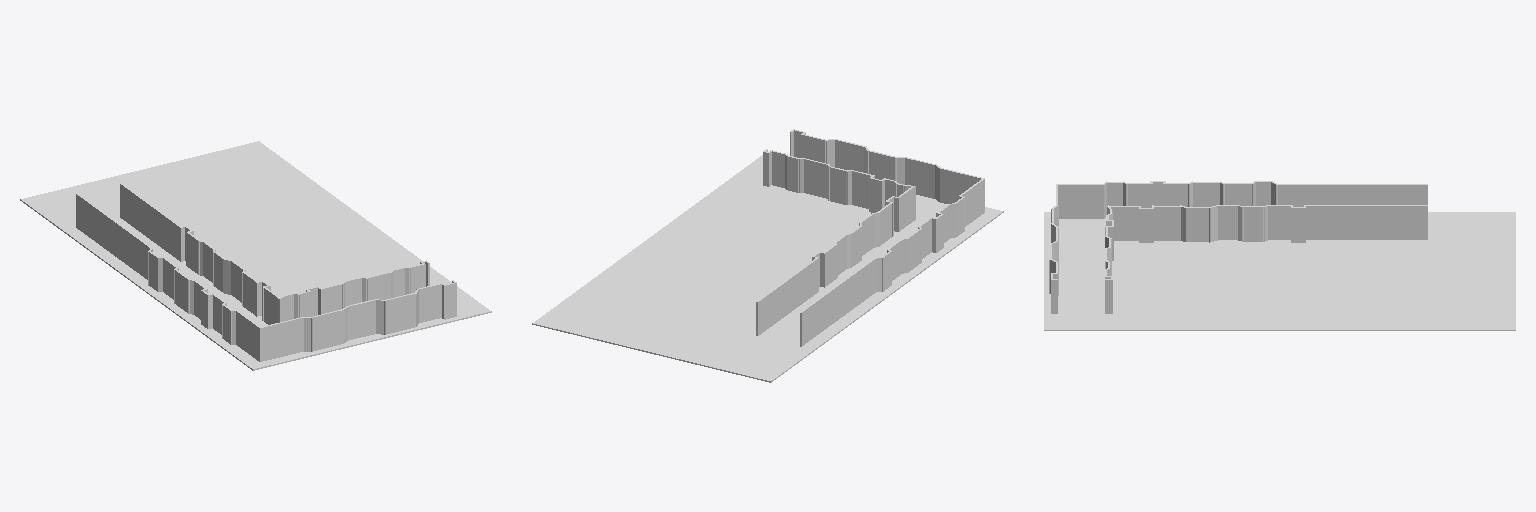
--- Facts derived from the render (not from the file) ---
Views: 3 orthographic renders of the robot side by side, from view 1: azimuth 30°, elevation 25°; view 2: azimuth 150°, elevation 25°; view 3: azimuth 270°, elevation 25°.
Model use_case1 with 68 links and 67 joints (67 fixed), rooted at use_case1__Wall_11, posed all joints at 0.
Visible links, largest first — view 1: use_case1__Floor_7, use_case1__Wall_61, use_case1__Wall_79, use_case1__Wall_43, use_case1__Wall_41, use_case1__Wall_37, use_case1__Wall_39, use_case1__Wall_44, use_case1__Wall_35, use_case1__Wall_18; view 2: use_case1__Floor_7, use_case1__Wall_61, use_case1__Wall_79, use_case1__Wall_41, use_case1__Wall_43, use_case1__Wall_18, use_case1__Wall_37, use_case1__Wall_44, use_case1__Wall_39, use_case1__Wall_20, use_case1__Wall_22, use_case1__Wall_35 (+1 smaller); view 3: use_case1__Floor_7, use_case1__Wall_79, use_case1__Wall_61, use_case1__Wall_44, use_case1__Wall_74, use_case1__Wall_78, use_case1__Wall_72, use_case1__Wall_66, use_case1__Wall_68, use_case1__Wall_70, use_case1__Wall_55, use_case1__Wall_57 (+2 smaller).
Link boxes in pixels (x1=…): use_case1__Floor_7: x1=20, y1=141, x2=491, y2=370; use_case1__Wall_61: x1=76, y1=194, x2=151, y2=279; use_case1__Wall_79: x1=120, y1=183, x2=180, y2=260; use_case1__Wall_43: x1=259, y1=317, x2=303, y2=361; use_case1__Wall_41: x1=311, y1=309, x2=343, y2=351; use_case1__Wall_37: x1=384, y1=293, x2=415, y2=334; use_case1__Wall_39: x1=348, y1=299, x2=375, y2=340; use_case1__Wall_44: x1=236, y1=310, x2=261, y2=361; use_case1__Wall_35: x1=416, y1=283, x2=441, y2=322; use_case1__Wall_18: x1=366, y1=272, x2=390, y2=300; use_case1__Floor_7: x1=532, y1=155, x2=1003, y2=382; use_case1__Wall_61: x1=800, y1=258, x2=875, y2=346; use_case1__Wall_79: x1=756, y1=258, x2=817, y2=335; use_case1__Wall_41: x1=905, y1=157, x2=936, y2=198; use_case1__Wall_43: x1=940, y1=168, x2=984, y2=212; use_case1__Wall_18: x1=804, y1=158, x2=829, y2=198; use_case1__Wall_37: x1=835, y1=139, x2=866, y2=172; use_case1__Wall_44: x1=959, y1=178, x2=984, y2=226; use_case1__Wall_39: x1=867, y1=151, x2=896, y2=180; use_case1__Wall_20: x1=828, y1=167, x2=847, y2=204; use_case1__Wall_22: x1=852, y1=171, x2=874, y2=208; use_case1__Wall_35: x1=803, y1=134, x2=826, y2=163; use_case1__Floor_7: x1=1044, y1=212, x2=1515, y2=330; use_case1__Wall_79: x1=1306, y1=205, x2=1427, y2=239; use_case1__Wall_61: x1=1276, y1=184, x2=1427, y2=206; use_case1__Wall_44: x1=1056, y1=184, x2=1104, y2=218; use_case1__Wall_74: x1=1152, y1=206, x2=1180, y2=240; use_case1__Wall_78: x1=1110, y1=206, x2=1138, y2=240; use_case1__Wall_72: x1=1185, y1=207, x2=1210, y2=241; use_case1__Wall_66: x1=1268, y1=205, x2=1290, y2=239; use_case1__Wall_68: x1=1242, y1=206, x2=1264, y2=241; use_case1__Wall_70: x1=1217, y1=205, x2=1238, y2=239; use_case1__Wall_55: x1=1191, y1=182, x2=1220, y2=206; use_case1__Wall_57: x1=1223, y1=183, x2=1252, y2=205.
Bounding box of the posed robot: 18.38 × 31.03 × 2.6 m (x, y, z).
Meshes: 1 distinct files referenced, 0 mesh visuals loaded (none loaded); not drawn: 1 (reference not matched to a file when rendering).

URDF robot description (use_case1):
<?xml version="1.0" ?>
<robot name="use_case1">
  <link name="use_case1__Wall_11">
    <inertial>
      <mass value="0"/>
      <origin rpy="0  0  0" xyz="0  0  0"/>
      <inertia ixx="0" ixy="0" ixz="0" iyy="0" iyz="0" izz="0"/>
    </inertial>
    <collision name="use_case1__Wall_11_Collision">
      <origin rpy="0      0      1.5708" xyz="7.51182 -4.42969  1.25"/>
      <geometry>
        <box size="0.5 0.15 2.5"/>
      </geometry>
    </collision>
    <visual name="use_case1__Wall_11_Visual">
      <origin rpy="0      0      1.5708" xyz="7.51182 -4.42969  1.25"/>
      <geometry>
        <box size="0.5 0.15 2.5"/>
      </geometry>
      <material
        name="">
        <color
          rgba="0.92 0.92 0.92 1" />
      </material>
    </visual>
  </link>
  <link name="use_case1__Wall_12">
    <inertial>
      <mass value="0"/>
      <origin rpy="0  0  0" xyz="0  0  0"/>
      <inertia ixx="0" ixy="0" ixz="0" iyy="0" iyz="0" izz="0"/>
    </inertial>
    <collision name="use_case1__Wall_12_Collision">
      <origin rpy="0       0       3.14159" xyz="7.33682 -4.25469  1.25"/>
      <geometry>
        <box size="0.5 0.15 2.5"/>
      </geometry>
    </collision>
    <visual name="use_case1__Wall_12_Visual">
      <origin rpy="0       0       3.14159" xyz="7.33682 -4.25469  1.25"/>
      <geometry>
        <box size="0.5 0.15 2.5"/>
      </geometry>
      <material
        name="">
        <color
          rgba="0.92 0.92 0.92 1" />
      </material>
    </visual>
  </link>
  <link name="use_case1__Wall_13">
    <inertial>
      <mass value="0"/>
      <origin rpy="0  0  0" xyz="0  0  0"/>
      <inertia ixx="0" ixy="0" ixz="0" iyy="0" iyz="0" izz="0"/>
    </inertial>
    <collision name="use_case1__Wall_13_Collision">
      <origin rpy="0      0     -1.5708" xyz="7.16182 -4.42969  1.25"/>
      <geometry>
        <box size="0.5 0.15 2.5"/>
      </geometry>
    </collision>
    <visual name="use_case1__Wall_13_Visual">
      <origin rpy="0      0     -1.5708" xyz="7.16182 -4.42969  1.25"/>
      <geometry>
        <box size="0.5 0.15 2.5"/>
      </geometry>
      <material
        name="">
        <color
          rgba="0.92 0.92 0.92 1" />
      </material>
    </visual>
  </link>
  <link name="use_case1__Wall_14">
    <inertial>
      <mass value="0"/>
      <origin rpy="0  0  0" xyz="0  0  0"/>
      <inertia ixx="0" ixy="0" ixz="0" iyy="0" iyz="0" izz="0"/>
    </inertial>
    <collision name="use_case1__Wall_14_Collision">
      <origin rpy="0       0       3.14159" xyz="6.61182 -4.60469  1.25"/>
      <geometry>
        <box size="1.25 0.15 2.5"/>
      </geometry>
    </collision>
    <visual name="use_case1__Wall_14_Visual">
      <origin rpy="0       0       3.14159" xyz="6.61182 -4.60469  1.25"/>
      <geometry>
        <box size="1.25 0.15 2.5"/>
      </geometry>
      <material
        name="">
        <color
          rgba="0.92 0.92 0.92 1" />
      </material>
    </visual>
  </link>
  <link name="use_case1__Wall_15">
    <inertial>
      <mass value="0"/>
      <origin rpy="0  0  0" xyz="0  0  0"/>
      <inertia ixx="0" ixy="0" ixz="0" iyy="0" iyz="0" izz="0"/>
    </inertial>
    <collision name="use_case1__Wall_15_Collision">
      <origin rpy="0       0       2.61798" xyz="5.91026 -4.51719  1.25"/>
      <geometry>
        <box size="0.5 0.15 2.5"/>
      </geometry>
    </collision>
    <visual name="use_case1__Wall_15_Visual">
      <origin rpy="0       0       2.61798" xyz="5.91026 -4.51719  1.25"/>
      <geometry>
        <box size="0.5 0.15 2.5"/>
      </geometry>
      <material
        name="">
        <color
          rgba="0.92 0.92 0.92 1" />
      </material>
    </visual>
  </link>
  <link name="use_case1__Wall_16">
    <inertial>
      <mass value="0"/>
      <origin rpy="0  0  0" xyz="0  0  0"/>
      <inertia ixx="0" ixy="0" ixz="0" iyy="0" iyz="0" izz="0"/>
    </inertial>
    <collision name="use_case1__Wall_16_Collision">
      <origin rpy="0       0       3.14159" xyz="5.33371 -4.42969  1.25"/>
      <geometry>
        <box size="1 0.15 2.5"/>
      </geometry>
    </collision>
    <visual name="use_case1__Wall_16_Visual">
      <origin rpy="0       0       3.14159" xyz="5.33371 -4.42969  1.25"/>
      <geometry>
        <box size="1 0.15 2.5"/>
      </geometry>
      <material
        name="">
        <color
          rgba="0.92 0.92 0.92 1" />
      </material>
    </visual>
  </link>
  <link name="use_case1__Wall_17">
    <inertial>
      <mass value="0"/>
      <origin rpy="0  0  0" xyz="0  0  0"/>
      <inertia ixx="0" ixy="0" ixz="0" iyy="0" iyz="0" izz="0"/>
    </inertial>
    <collision name="use_case1__Wall_17_Collision">
      <origin rpy="0       0      -2.61798" xyz="4.75715 -4.51719  1.25"/>
      <geometry>
        <box size="0.5 0.15 2.5"/>
      </geometry>
    </collision>
    <visual name="use_case1__Wall_17_Visual">
      <origin rpy="0       0      -2.61798" xyz="4.75715 -4.51719  1.25"/>
      <geometry>
        <box size="0.5 0.15 2.5"/>
      </geometry>
      <material
        name="">
        <color
          rgba="0.92 0.92 0.92 1" />
      </material>
    </visual>
  </link>
  <link name="use_case1__Wall_18">
    <inertial>
      <mass value="0"/>
      <origin rpy="0  0  0" xyz="0  0  0"/>
      <inertia ixx="0" ixy="0" ixz="0" iyy="0" iyz="0" izz="0"/>
    </inertial>
    <collision name="use_case1__Wall_18_Collision">
      <origin rpy="0       0       3.14159" xyz="3.6806  -4.60469  1.25"/>
      <geometry>
        <box size="2 0.15 2.5"/>
      </geometry>
    </collision>
    <visual name="use_case1__Wall_18_Visual">
      <origin rpy="0       0       3.14159" xyz="3.6806  -4.60469  1.25"/>
      <geometry>
        <box size="2 0.15 2.5"/>
      </geometry>
      <material
        name="">
        <color
          rgba="0.92 0.92 0.92 1" />
      </material>
    </visual>
  </link>
  <link name="use_case1__Wall_19">
    <inertial>
      <mass value="0"/>
      <origin rpy="0  0  0" xyz="0  0  0"/>
      <inertia ixx="0" ixy="0" ixz="0" iyy="0" iyz="0" izz="0"/>
    </inertial>
    <collision name="use_case1__Wall_19_Collision">
      <origin rpy="0       0       2.35618" xyz="2.63185 -4.48095  1.25"/>
      <geometry>
        <box size="0.5 0.15 2.5"/>
      </geometry>
    </collision>
    <visual name="use_case1__Wall_19_Visual">
      <origin rpy="0       0       2.35618" xyz="2.63185 -4.48095  1.25"/>
      <geometry>
        <box size="0.5 0.15 2.5"/>
      </geometry>
      <material
        name="">
        <color
          rgba="0.92 0.92 0.92 1" />
      </material>
    </visual>
  </link>
  <link name="use_case1__Wall_20">
    <inertial>
      <mass value="0"/>
      <origin rpy="0  0  0" xyz="0  0  0"/>
      <inertia ixx="0" ixy="0" ixz="0" iyy="0" iyz="0" izz="0"/>
    </inertial>
    <collision name="use_case1__Wall_20_Collision">
      <origin rpy="0       0       3.14159" xyz="1.83311 -4.3572   1.25"/>
      <geometry>
        <box size="1.5 0.15 2.5"/>
      </geometry>
    </collision>
    <visual name="use_case1__Wall_20_Visual">
      <origin rpy="0       0       3.14159" xyz="1.83311 -4.3572   1.25"/>
      <geometry>
        <box size="1.5 0.15 2.5"/>
      </geometry>
      <material
        name="">
        <color
          rgba="0.92 0.92 0.92 1" />
      </material>
    </visual>
  </link>
  <link name="use_case1__Wall_21">
    <inertial>
      <mass value="0"/>
      <origin rpy="0  0  0" xyz="0  0  0"/>
      <inertia ixx="0" ixy="0" ixz="0" iyy="0" iyz="0" izz="0"/>
    </inertial>
    <collision name="use_case1__Wall_21_Collision">
      <origin rpy="0       0      -2.45528" xyz="1.01416 -4.47512  1.25"/>
      <geometry>
        <box size="0.522162 0.15 2.5"/>
      </geometry>
    </collision>
    <visual name="use_case1__Wall_21_Visual">
      <origin rpy="0       0      -2.45528" xyz="1.01416 -4.47512  1.25"/>
      <geometry>
        <box size="0.522162 0.15 2.5"/>
      </geometry>
      <material
        name="">
        <color
          rgba="0.92 0.92 0.92 1" />
      </material>
    </visual>
  </link>
  <link name="use_case1__Wall_22">
    <inertial>
      <mass value="0"/>
      <origin rpy="0  0  0" xyz="0  0  0"/>
      <inertia ixx="0" ixy="0" ixz="0" iyy="0" iyz="0" izz="0"/>
    </inertial>
    <collision name="use_case1__Wall_22_Collision">
      <origin rpy="0       0       3.14159" xyz="0.07021 -4.57783  1.25"/>
      <geometry>
        <box size="1.75 0.15 2.5"/>
      </geometry>
    </collision>
    <visual name="use_case1__Wall_22_Visual">
      <origin rpy="0       0       3.14159" xyz="0.07021 -4.57783  1.25"/>
      <geometry>
        <box size="1.75 0.15 2.5"/>
      </geometry>
      <material
        name="">
        <color
          rgba="0.92 0.92 0.92 1" />
      </material>
    </visual>
  </link>
  <link name="use_case1__Wall_23">
    <inertial>
      <mass value="0"/>
      <origin rpy="0  0  0" xyz="0  0  0"/>
      <inertia ixx="0" ixy="0" ixz="0" iyy="0" iyz="0" izz="0"/>
    </inertial>
    <collision name="use_case1__Wall_23_Collision">
      <origin rpy="0      0      1.6078" xyz="-0.73738 -4.38762  1.25"/>
      <geometry>
        <box size="0.561116 0.15 2.5"/>
      </geometry>
    </collision>
    <visual name="use_case1__Wall_23_Visual">
      <origin rpy="0      0      1.6078" xyz="-0.73738 -4.38762  1.25"/>
      <geometry>
        <box size="0.561116 0.15 2.5"/>
      </geometry>
      <material
        name="">
        <color
          rgba="0.92 0.92 0.92 1" />
      </material>
    </visual>
  </link>
  <link name="use_case1__Wall_24">
    <inertial>
      <mass value="0"/>
      <origin rpy="0  0  0" xyz="0  0  0"/>
      <inertia ixx="0" ixy="0" ixz="0" iyy="0" iyz="0" izz="0"/>
    </inertial>
    <collision name="use_case1__Wall_24_Collision">
      <origin rpy="0       0       3.14159" xyz="-1.16999 -4.1822   1.25"/>
      <geometry>
        <box size="1 0.15 2.5"/>
      </geometry>
    </collision>
    <visual name="use_case1__Wall_24_Visual">
      <origin rpy="0       0       3.14159" xyz="-1.16999 -4.1822   1.25"/>
      <geometry>
        <box size="1 0.15 2.5"/>
      </geometry>
      <material
        name="">
        <color
          rgba="0.92 0.92 0.92 1" />
      </material>
    </visual>
  </link>
  <link name="use_case1__Wall_25">
    <inertial>
      <mass value="0"/>
      <origin rpy="0  0  0" xyz="0  0  0"/>
      <inertia ixx="0" ixy="0" ixz="0" iyy="0" iyz="0" izz="0"/>
    </inertial>
    <collision name="use_case1__Wall_25_Collision">
      <origin rpy="0      0     -1.5708" xyz="-1.59499 -4.3572   1.25"/>
      <geometry>
        <box size="0.5 0.15 2.5"/>
      </geometry>
    </collision>
    <visual name="use_case1__Wall_25_Visual">
      <origin rpy="0      0     -1.5708" xyz="-1.59499 -4.3572   1.25"/>
      <geometry>
        <box size="0.5 0.15 2.5"/>
      </geometry>
      <material
        name="">
        <color
          rgba="0.92 0.92 0.92 1" />
      </material>
    </visual>
  </link>
  <link name="use_case1__Wall_26">
    <inertial>
      <mass value="0"/>
      <origin rpy="0  0  0" xyz="0  0  0"/>
      <inertia ixx="0" ixy="0" ixz="0" iyy="0" iyz="0" izz="0"/>
    </inertial>
    <collision name="use_case1__Wall_26_Collision">
      <origin rpy="0       0       3.14159" xyz="-2.01999 -4.5322   1.25"/>
      <geometry>
        <box size="1 0.15 2.5"/>
      </geometry>
    </collision>
    <visual name="use_case1__Wall_26_Visual">
      <origin rpy="0       0       3.14159" xyz="-2.01999 -4.5322   1.25"/>
      <geometry>
        <box size="1 0.15 2.5"/>
      </geometry>
      <material
        name="">
        <color
          rgba="0.92 0.92 0.92 1" />
      </material>
    </visual>
  </link>
  <link name="use_case1__Wall_27">
    <inertial>
      <mass value="0"/>
      <origin rpy="0  0  0" xyz="0  0  0"/>
      <inertia ixx="0" ixy="0" ixz="0" iyy="0" iyz="0" izz="0"/>
    </inertial>
    <collision name="use_case1__Wall_27_Collision">
      <origin rpy="0       0       2.35618" xyz="-2.56873 -4.40846  1.25"/>
      <geometry>
        <box size="0.5 0.15 2.5"/>
      </geometry>
    </collision>
    <visual name="use_case1__Wall_27_Visual">
      <origin rpy="0       0       2.35618" xyz="-2.56873 -4.40846  1.25"/>
      <geometry>
        <box size="0.5 0.15 2.5"/>
      </geometry>
      <material
        name="">
        <color
          rgba="0.92 0.92 0.92 1" />
      </material>
    </visual>
  </link>
  <link name="use_case1__Wall_28">
    <inertial>
      <mass value="0"/>
      <origin rpy="0  0  0" xyz="0  0  0"/>
      <inertia ixx="0" ixy="0" ixz="0" iyy="0" iyz="0" izz="0"/>
    </inertial>
    <collision name="use_case1__Wall_28_Collision">
      <origin rpy="0       0       3.14159" xyz="-2.99248 -4.28472  1.25"/>
      <geometry>
        <box size="0.75 0.15 2.5"/>
      </geometry>
    </collision>
    <visual name="use_case1__Wall_28_Visual">
      <origin rpy="0       0       3.14159" xyz="-2.99248 -4.28472  1.25"/>
      <geometry>
        <box size="0.75 0.15 2.5"/>
      </geometry>
      <material
        name="">
        <color
          rgba="0.92 0.92 0.92 1" />
      </material>
    </visual>
  </link>
  <link name="use_case1__Wall_29">
    <inertial>
      <mass value="0"/>
      <origin rpy="0  0  0" xyz="0  0  0"/>
      <inertia ixx="0" ixy="0" ixz="0" iyy="0" iyz="0" izz="0"/>
    </inertial>
    <collision name="use_case1__Wall_29_Collision">
      <origin rpy="0       0      -2.82132" xyz="-3.59318 -4.38446  1.25"/>
      <geometry>
        <box size="0.783629 0.15 2.5"/>
      </geometry>
    </collision>
    <visual name="use_case1__Wall_29_Visual">
      <origin rpy="0       0      -2.82132" xyz="-3.59318 -4.38446  1.25"/>
      <geometry>
        <box size="0.783629 0.15 2.5"/>
      </geometry>
      <material
        name="">
        <color
          rgba="0.92 0.92 0.92 1" />
      </material>
    </visual>
  </link>
  <link name="use_case1__Wall_30">
    <inertial>
      <mass value="0"/>
      <origin rpy="0  0  0" xyz="0  0  0"/>
      <inertia ixx="0" ixy="0" ixz="0" iyy="0" iyz="0" izz="0"/>
    </inertial>
    <collision name="use_case1__Wall_30_Collision">
      <origin rpy="0  0  0" xyz="-3.89389 -4.4842   1.25"/>
      <geometry>
        <box size="0.15 0.15 2.5"/>
      </geometry>
    </collision>
    <visual name="use_case1__Wall_30_Visual">
      <origin rpy="0  0  0" xyz="-3.89389 -4.4842   1.25"/>
      <geometry>
        <box size="0.15 0.15 2.5"/>
      </geometry>
      <material
        name="">
        <color
          rgba="0.92 0.92 0.92 1" />
      </material>
    </visual>
  </link>
  <link name="use_case1__Wall_32">
    <inertial>
      <mass value="0"/>
      <origin rpy="0  0  0" xyz="0  0  0"/>
      <inertia ixx="0" ixy="0" ixz="0" iyy="0" iyz="0" izz="0"/>
    </inertial>
    <collision name="use_case1__Wall_32_Collision">
      <origin rpy="0      0     -1.5708" xyz="7.52673 -8.03025  1.25"/>
      <geometry>
        <box size="0.5 0.15 2.5"/>
      </geometry>
    </collision>
    <visual name="use_case1__Wall_32_Visual">
      <origin rpy="0      0     -1.5708" xyz="7.52673 -8.03025  1.25"/>
      <geometry>
        <box size="0.5 0.15 2.5"/>
      </geometry>
      <material
        name="">
        <color
          rgba="0.92 0.92 0.92 1" />
      </material>
    </visual>
  </link>
  <link name="use_case1__Wall_33">
    <inertial>
      <mass value="0"/>
      <origin rpy="0  0  0" xyz="0  0  0"/>
      <inertia ixx="0" ixy="0" ixz="0" iyy="0" iyz="0" izz="0"/>
    </inertial>
    <collision name="use_case1__Wall_33_Collision">
      <origin rpy="0       0       3.14159" xyz="7.10173 -8.20526  1.25"/>
      <geometry>
        <box size="1 0.15 2.5"/>
      </geometry>
    </collision>
    <visual name="use_case1__Wall_33_Visual">
      <origin rpy="0       0       3.14159" xyz="7.10173 -8.20526  1.25"/>
      <geometry>
        <box size="1 0.15 2.5"/>
      </geometry>
      <material
        name="">
        <color
          rgba="0.92 0.92 0.92 1" />
      </material>
    </visual>
  </link>
  <link name="use_case1__Wall_34">
    <inertial>
      <mass value="0"/>
      <origin rpy="0  0  0" xyz="0  0  0"/>
      <inertia ixx="0" ixy="0" ixz="0" iyy="0" iyz="0" izz="0"/>
    </inertial>
    <collision name="use_case1__Wall_34_Collision">
      <origin rpy="0      0      1.5708" xyz="6.67673 -8.03025  1.25"/>
      <geometry>
        <box size="0.5 0.15 2.5"/>
      </geometry>
    </collision>
    <visual name="use_case1__Wall_34_Visual">
      <origin rpy="0      0      1.5708" xyz="6.67673 -8.03025  1.25"/>
      <geometry>
        <box size="0.5 0.15 2.5"/>
      </geometry>
      <material
        name="">
        <color
          rgba="0.92 0.92 0.92 1" />
      </material>
    </visual>
  </link>
  <link name="use_case1__Wall_35">
    <inertial>
      <mass value="0"/>
      <origin rpy="0  0  0" xyz="0  0  0"/>
      <inertia ixx="0" ixy="0" ixz="0" iyy="0" iyz="0" izz="0"/>
    </inertial>
    <collision name="use_case1__Wall_35_Collision">
      <origin rpy="0       0       3.14159" xyz="5.75173 -7.85525  1.25"/>
      <geometry>
        <box size="2 0.15 2.5"/>
      </geometry>
    </collision>
    <visual name="use_case1__Wall_35_Visual">
      <origin rpy="0       0       3.14159" xyz="5.75173 -7.85525  1.25"/>
      <geometry>
        <box size="2 0.15 2.5"/>
      </geometry>
      <material
        name="">
        <color
          rgba="0.92 0.92 0.92 1" />
      </material>
    </visual>
  </link>
  <link name="use_case1__Wall_36">
    <inertial>
      <mass value="0"/>
      <origin rpy="0  0  0" xyz="0  0  0"/>
      <inertia ixx="0" ixy="0" ixz="0" iyy="0" iyz="0" izz="0"/>
    </inertial>
    <collision name="use_case1__Wall_36_Collision">
      <origin rpy="0       0      -2.35618" xyz="4.6146  -8.06739  1.25"/>
      <geometry>
        <box size="0.75 0.15 2.5"/>
      </geometry>
    </collision>
    <visual name="use_case1__Wall_36_Visual">
      <origin rpy="0       0      -2.35618" xyz="4.6146  -8.06739  1.25"/>
      <geometry>
        <box size="0.75 0.15 2.5"/>
      </geometry>
      <material
        name="">
        <color
          rgba="0.92 0.92 0.92 1" />
      </material>
    </visual>
  </link>
  <link name="use_case1__Wall_37">
    <inertial>
      <mass value="0"/>
      <origin rpy="0  0  0" xyz="0  0  0"/>
      <inertia ixx="0" ixy="0" ixz="0" iyy="0" iyz="0" izz="0"/>
    </inertial>
    <collision name="use_case1__Wall_37_Collision">
      <origin rpy="0       0       3.14159" xyz="3.22747 -8.27952  1.25"/>
      <geometry>
        <box size="2.5 0.15 2.5"/>
      </geometry>
    </collision>
    <visual name="use_case1__Wall_37_Visual">
      <origin rpy="0       0       3.14159" xyz="3.22747 -8.27952  1.25"/>
      <geometry>
        <box size="2.5 0.15 2.5"/>
      </geometry>
      <material
        name="">
        <color
          rgba="0.92 0.92 0.92 1" />
      </material>
    </visual>
  </link>
  <link name="use_case1__Wall_38">
    <inertial>
      <mass value="0"/>
      <origin rpy="0  0  0" xyz="0  0  0"/>
      <inertia ixx="0" ixy="0" ixz="0" iyy="0" iyz="0" izz="0"/>
    </inertial>
    <collision name="use_case1__Wall_38_Collision">
      <origin rpy="0       0       2.43287" xyz="1.79266 -8.05678  1.25"/>
      <geometry>
        <box size="0.834433 0.15 2.5"/>
      </geometry>
    </collision>
    <visual name="use_case1__Wall_38_Visual">
      <origin rpy="0       0       2.43287" xyz="1.79266 -8.05678  1.25"/>
      <geometry>
        <box size="0.834433 0.15 2.5"/>
      </geometry>
      <material
        name="">
        <color
          rgba="0.92 0.92 0.92 1" />
      </material>
    </visual>
  </link>
  <link name="use_case1__Wall_39">
    <inertial>
      <mass value="0"/>
      <origin rpy="0  0  0" xyz="0  0  0"/>
      <inertia ixx="0" ixy="0" ixz="0" iyy="0" iyz="0" izz="0"/>
    </inertial>
    <collision name="use_case1__Wall_39_Collision">
      <origin rpy="0       0       3.14159" xyz="0.48286 -7.84727  1.25"/>
      <geometry>
        <box size="2.25 0.15 2.5"/>
      </geometry>
    </collision>
    <visual name="use_case1__Wall_39_Visual">
      <origin rpy="0       0       3.14159" xyz="0.48286 -7.84727  1.25"/>
      <geometry>
        <box size="2.25 0.15 2.5"/>
      </geometry>
      <material
        name="">
        <color
          rgba="0.92 0.92 0.92 1" />
      </material>
    </visual>
  </link>
  <link name="use_case1__Wall_40">
    <inertial>
      <mass value="0"/>
      <origin rpy="0  0  0" xyz="0  0  0"/>
      <inertia ixx="0" ixy="0" ixz="0" iyy="0" iyz="0" izz="0"/>
    </inertial>
    <collision name="use_case1__Wall_40_Collision">
      <origin rpy="0       0      -2.66289" xyz="-0.85691 -7.98443  1.25"/>
      <geometry>
        <box size="0.802951 0.15 2.5"/>
      </geometry>
    </collision>
    <visual name="use_case1__Wall_40_Visual">
      <origin rpy="0       0      -2.66289" xyz="-0.85691 -7.98443  1.25"/>
      <geometry>
        <box size="0.802951 0.15 2.5"/>
      </geometry>
      <material
        name="">
        <color
          rgba="0.92 0.92 0.92 1" />
      </material>
    </visual>
  </link>
  <link name="use_case1__Wall_41">
    <inertial>
      <mass value="0"/>
      <origin rpy="0  0  0" xyz="0  0  0"/>
      <inertia ixx="0" ixy="0" ixz="0" iyy="0" iyz="0" izz="0"/>
    </inertial>
    <collision name="use_case1__Wall_41_Collision">
      <origin rpy="0       0       3.14159" xyz="-2.32169 -8.13481  1.25"/>
      <geometry>
        <box size="2.5 0.15 2.5"/>
      </geometry>
    </collision>
    <visual name="use_case1__Wall_41_Visual">
      <origin rpy="0       0       3.14159" xyz="-2.32169 -8.13481  1.25"/>
      <geometry>
        <box size="2.5 0.15 2.5"/>
      </geometry>
      <material
        name="">
        <color
          rgba="0.92 0.92 0.92 1" />
      </material>
    </visual>
  </link>
  <link name="use_case1__Wall_42">
    <inertial>
      <mass value="0"/>
      <origin rpy="0  0  0" xyz="0  0  0"/>
      <inertia ixx="0" ixy="0" ixz="0" iyy="0" iyz="0" izz="0"/>
    </inertial>
    <collision name="use_case1__Wall_42_Collision">
      <origin rpy="0       0       2.61107" xyz="-3.73498 -7.99503  1.25"/>
      <geometry>
        <box size="0.702509 0.15 2.5"/>
      </geometry>
    </collision>
    <visual name="use_case1__Wall_42_Visual">
      <origin rpy="0       0       2.61107" xyz="-3.73498 -7.99503  1.25"/>
      <geometry>
        <box size="0.702509 0.15 2.5"/>
      </geometry>
      <material
        name="">
        <color
          rgba="0.92 0.92 0.92 1" />
      </material>
    </visual>
  </link>
  <link name="use_case1__Wall_43">
    <inertial>
      <mass value="0"/>
      <origin rpy="0  0  0" xyz="0  0  0"/>
      <inertia ixx="0" ixy="0" ixz="0" iyy="0" iyz="0" izz="0"/>
    </inertial>
    <collision name="use_case1__Wall_43_Collision">
      <origin rpy="0       0       3.14159" xyz="-5.64826 -7.85525  1.25"/>
      <geometry>
        <box size="3.5 0.15 2.5"/>
      </geometry>
    </collision>
    <visual name="use_case1__Wall_43_Visual">
      <origin rpy="0       0       3.14159" xyz="-5.64826 -7.85525  1.25"/>
      <geometry>
        <box size="3.5 0.15 2.5"/>
      </geometry>
      <material
        name="">
        <color
          rgba="0.92 0.92 0.92 1" />
      </material>
    </visual>
  </link>
  <link name="use_case1__Wall_44">
    <inertial>
      <mass value="0"/>
      <origin rpy="0  0  0" xyz="0  0  0"/>
      <inertia ixx="0" ixy="0" ixz="0" iyy="0" iyz="0" izz="0"/>
    </inertial>
    <collision name="use_case1__Wall_44_Collision">
      <origin rpy="0      0      1.5708" xyz="-7.32326 -6.30525  1.25"/>
      <geometry>
        <box size="3.25 0.15 2.5"/>
      </geometry>
    </collision>
    <visual name="use_case1__Wall_44_Visual">
      <origin rpy="0      0      1.5708" xyz="-7.32326 -6.30525  1.25"/>
      <geometry>
        <box size="3.25 0.15 2.5"/>
      </geometry>
      <material
        name="">
        <color
          rgba="0.92 0.92 0.92 1" />
      </material>
    </visual>
  </link>
  <link name="use_case1__Wall_45">
    <inertial>
      <mass value="0"/>
      <origin rpy="0  0  0" xyz="0  0  0"/>
      <inertia ixx="0" ixy="0" ixz="0" iyy="0" iyz="0" izz="0"/>
    </inertial>
    <collision name="use_case1__Wall_45_Collision">
      <origin rpy="0       0       2.61798" xyz="-7.47481 -4.66775  1.25"/>
      <geometry>
        <box size="0.5 0.15 2.5"/>
      </geometry>
    </collision>
    <visual name="use_case1__Wall_45_Visual">
      <origin rpy="0       0       2.61798" xyz="-7.47481 -4.66775  1.25"/>
      <geometry>
        <box size="0.5 0.15 2.5"/>
      </geometry>
      <material
        name="">
        <color
          rgba="0.92 0.92 0.92 1" />
      </material>
    </visual>
  </link>
  <link name="use_case1__Wall_46">
    <inertial>
      <mass value="0"/>
      <origin rpy="0  0  0" xyz="0  0  0"/>
      <inertia ixx="0" ixy="0" ixz="0" iyy="0" iyz="0" izz="0"/>
    </inertial>
    <collision name="use_case1__Wall_46_Collision">
      <origin rpy="0      0      1.5708" xyz="-7.62637 -4.03025  1.25"/>
      <geometry>
        <box size="1.25 0.15 2.5"/>
      </geometry>
    </collision>
    <visual name="use_case1__Wall_46_Visual">
      <origin rpy="0      0      1.5708" xyz="-7.62637 -4.03025  1.25"/>
      <geometry>
        <box size="1.25 0.15 2.5"/>
      </geometry>
      <material
        name="">
        <color
          rgba="0.92 0.92 0.92 1" />
      </material>
    </visual>
  </link>
  <link name="use_case1__Wall_47">
    <inertial>
      <mass value="0"/>
      <origin rpy="0  0  0" xyz="0  0  0"/>
      <inertia ixx="0" ixy="0" ixz="0" iyy="0" iyz="0" izz="0"/>
    </inertial>
    <collision name="use_case1__Wall_47_Collision">
      <origin rpy="0       0       0.78539" xyz="-7.50262 -3.35651  1.25"/>
      <geometry>
        <box size="0.5 0.15 2.5"/>
      </geometry>
    </collision>
    <visual name="use_case1__Wall_47_Visual">
      <origin rpy="0       0       0.78539" xyz="-7.50262 -3.35651  1.25"/>
      <geometry>
        <box size="0.5 0.15 2.5"/>
      </geometry>
      <material
        name="">
        <color
          rgba="0.92 0.92 0.92 1" />
      </material>
    </visual>
  </link>
  <link name="use_case1__Wall_48">
    <inertial>
      <mass value="0"/>
      <origin rpy="0  0  0" xyz="0  0  0"/>
      <inertia ixx="0" ixy="0" ixz="0" iyy="0" iyz="0" izz="0"/>
    </inertial>
    <collision name="use_case1__Wall_48_Collision">
      <origin rpy="0      0      1.5708" xyz="-7.37888 -2.43277  1.25"/>
      <geometry>
        <box size="1.75 0.15 2.5"/>
      </geometry>
    </collision>
    <visual name="use_case1__Wall_48_Visual">
      <origin rpy="0      0      1.5708" xyz="-7.37888 -2.43277  1.25"/>
      <geometry>
        <box size="1.75 0.15 2.5"/>
      </geometry>
      <material
        name="">
        <color
          rgba="0.92 0.92 0.92 1" />
      </material>
    </visual>
  </link>
  <link name="use_case1__Wall_49">
    <inertial>
      <mass value="0"/>
      <origin rpy="0  0  0" xyz="0  0  0"/>
      <inertia ixx="0" ixy="0" ixz="0" iyy="0" iyz="0" izz="0"/>
    </inertial>
    <collision name="use_case1__Wall_49_Collision">
      <origin rpy="0       0       3.14159" xyz="-7.55388 -1.63277  1.25"/>
      <geometry>
        <box size="0.5 0.15 2.5"/>
      </geometry>
    </collision>
    <visual name="use_case1__Wall_49_Visual">
      <origin rpy="0       0       3.14159" xyz="-7.55388 -1.63277  1.25"/>
      <geometry>
        <box size="0.5 0.15 2.5"/>
      </geometry>
      <material
        name="">
        <color
          rgba="0.92 0.92 0.92 1" />
      </material>
    </visual>
  </link>
  <link name="use_case1__Wall_51">
    <inertial>
      <mass value="0"/>
      <origin rpy="0  0  0" xyz="0  0  0"/>
      <inertia ixx="0" ixy="0" ixz="0" iyy="0" iyz="0" izz="0"/>
    </inertial>
    <collision name="use_case1__Wall_51_Collision">
      <origin rpy="0      0      1.5708" xyz="-7.72888 -1.20777  1.25"/>
      <geometry>
        <box size="1 0.15 2.5"/>
      </geometry>
    </collision>
    <visual name="use_case1__Wall_51_Visual">
      <origin rpy="0      0      1.5708" xyz="-7.72888 -1.20777  1.25"/>
      <geometry>
        <box size="1 0.15 2.5"/>
      </geometry>
      <material
        name="">
        <color
          rgba="0.92 0.92 0.92 1" />
      </material>
    </visual>
  </link>
  <link name="use_case1__Wall_52">
    <inertial>
      <mass value="0"/>
      <origin rpy="0  0  0" xyz="0  0  0"/>
      <inertia ixx="0" ixy="0" ixz="0" iyy="0" iyz="0" izz="0"/>
    </inertial>
    <collision name="use_case1__Wall_52_Collision">
      <origin rpy="0  0  0" xyz="-7.55388 -0.78277  1.25"/>
      <geometry>
        <box size="0.5 0.15 2.5"/>
      </geometry>
    </collision>
    <visual name="use_case1__Wall_52_Visual">
      <origin rpy="0  0  0" xyz="-7.55388 -0.78277  1.25"/>
      <geometry>
        <box size="0.5 0.15 2.5"/>
      </geometry>
      <material
        name="">
        <color
          rgba="0.92 0.92 0.92 1" />
      </material>
    </visual>
  </link>
  <link name="use_case1__Wall_53">
    <inertial>
      <mass value="0"/>
      <origin rpy="0  0  0" xyz="0  0  0"/>
      <inertia ixx="0" ixy="0" ixz="0" iyy="0" iyz="0" izz="0"/>
    </inertial>
    <collision name="use_case1__Wall_53_Collision">
      <origin rpy="0      0      1.5708" xyz="-7.37888  0.01722  1.25"/>
      <geometry>
        <box size="1.75 0.15 2.5"/>
      </geometry>
    </collision>
    <visual name="use_case1__Wall_53_Visual">
      <origin rpy="0      0      1.5708" xyz="-7.37888  0.01722  1.25"/>
      <geometry>
        <box size="1.75 0.15 2.5"/>
      </geometry>
      <material
        name="">
        <color
          rgba="0.92 0.92 0.92 1" />
      </material>
    </visual>
  </link>
  <link name="use_case1__Wall_54">
    <inertial>
      <mass value="0"/>
      <origin rpy="0  0  0" xyz="0  0  0"/>
      <inertia ixx="0" ixy="0" ixz="0" iyy="0" iyz="0" izz="0"/>
    </inertial>
    <collision name="use_case1__Wall_54_Collision">
      <origin rpy="0       0       2.35618" xyz="-7.50262  0.94097  1.25"/>
      <geometry>
        <box size="0.5 0.15 2.5"/>
      </geometry>
    </collision>
    <visual name="use_case1__Wall_54_Visual">
      <origin rpy="0       0       2.35618" xyz="-7.50262  0.94097  1.25"/>
      <geometry>
        <box size="0.5 0.15 2.5"/>
      </geometry>
      <material
        name="">
        <color
          rgba="0.92 0.92 0.92 1" />
      </material>
    </visual>
  </link>
  <link name="use_case1__Wall_55">
    <inertial>
      <mass value="0"/>
      <origin rpy="0  0  0" xyz="0  0  0"/>
      <inertia ixx="0" ixy="0" ixz="0" iyy="0" iyz="0" izz="0"/>
    </inertial>
    <collision name="use_case1__Wall_55_Collision">
      <origin rpy="0      0      1.5708" xyz="-7.62637  1.98971  1.25"/>
      <geometry>
        <box size="2 0.15 2.5"/>
      </geometry>
    </collision>
    <visual name="use_case1__Wall_55_Visual">
      <origin rpy="0      0      1.5708" xyz="-7.62637  1.98971  1.25"/>
      <geometry>
        <box size="2 0.15 2.5"/>
      </geometry>
      <material
        name="">
        <color
          rgba="0.92 0.92 0.92 1" />
      </material>
    </visual>
  </link>
  <link name="use_case1__Wall_56">
    <inertial>
      <mass value="0"/>
      <origin rpy="0  0  0" xyz="0  0  0"/>
      <inertia ixx="0" ixy="0" ixz="0" iyy="0" iyz="0" izz="0"/>
    </inertial>
    <collision name="use_case1__Wall_56_Collision">
      <origin rpy="0       0       0.78539" xyz="-7.50262  3.03845  1.25"/>
      <geometry>
        <box size="0.5 0.15 2.5"/>
      </geometry>
    </collision>
    <visual name="use_case1__Wall_56_Visual">
      <origin rpy="0       0       0.78539" xyz="-7.50262  3.03845  1.25"/>
      <geometry>
        <box size="0.5 0.15 2.5"/>
      </geometry>
      <material
        name="">
        <color
          rgba="0.92 0.92 0.92 1" />
      </material>
    </visual>
  </link>
  <link name="use_case1__Wall_57">
    <inertial>
      <mass value="0"/>
      <origin rpy="0  0  0" xyz="0  0  0"/>
      <inertia ixx="0" ixy="0" ixz="0" iyy="0" iyz="0" izz="0"/>
    </inertial>
    <collision name="use_case1__Wall_57_Collision">
      <origin rpy="0      0      1.5708" xyz="-7.37888  4.0872   1.25"/>
      <geometry>
        <box size="2 0.15 2.5"/>
      </geometry>
    </collision>
    <visual name="use_case1__Wall_57_Visual">
      <origin rpy="0      0      1.5708" xyz="-7.37888  4.0872   1.25"/>
      <geometry>
        <box size="2 0.15 2.5"/>
      </geometry>
      <material
        name="">
        <color
          rgba="0.92 0.92 0.92 1" />
      </material>
    </visual>
  </link>
  <link name="use_case1__Wall_58">
    <inertial>
      <mass value="0"/>
      <origin rpy="0  0  0" xyz="0  0  0"/>
      <inertia ixx="0" ixy="0" ixz="0" iyy="0" iyz="0" izz="0"/>
    </inertial>
    <collision name="use_case1__Wall_58_Collision">
      <origin rpy="0       0       2.61798" xyz="-7.53043  5.0997   1.25"/>
      <geometry>
        <box size="0.5 0.15 2.5"/>
      </geometry>
    </collision>
    <visual name="use_case1__Wall_58_Visual">
      <origin rpy="0       0       2.61798" xyz="-7.53043  5.0997   1.25"/>
      <geometry>
        <box size="0.5 0.15 2.5"/>
      </geometry>
      <material
        name="">
        <color
          rgba="0.92 0.92 0.92 1" />
      </material>
    </visual>
  </link>
  <link name="use_case1__Wall_59">
    <inertial>
      <mass value="0"/>
      <origin rpy="0  0  0" xyz="0  0  0"/>
      <inertia ixx="0" ixy="0" ixz="0" iyy="0" iyz="0" izz="0"/>
    </inertial>
    <collision name="use_case1__Wall_59_Collision">
      <origin rpy="0      0      1.5708" xyz="-7.68199  5.7372   1.25"/>
      <geometry>
        <box size="1.25 0.15 2.5"/>
      </geometry>
    </collision>
    <visual name="use_case1__Wall_59_Visual">
      <origin rpy="0      0      1.5708" xyz="-7.68199  5.7372   1.25"/>
      <geometry>
        <box size="1.25 0.15 2.5"/>
      </geometry>
      <material
        name="">
        <color
          rgba="0.92 0.92 0.92 1" />
      </material>
    </visual>
  </link>
  <link name="use_case1__Wall_60">
    <inertial>
      <mass value="0"/>
      <origin rpy="0  0  0" xyz="0  0  0"/>
      <inertia ixx="0" ixy="0" ixz="0" iyy="0" iyz="0" izz="0"/>
    </inertial>
    <collision name="use_case1__Wall_60_Collision">
      <origin rpy="0       0       0.78373" xyz="-7.50262  6.46597  1.25"/>
      <geometry>
        <box size="0.656479 0.15 2.5"/>
      </geometry>
    </collision>
    <visual name="use_case1__Wall_60_Visual">
      <origin rpy="0       0       0.78373" xyz="-7.50262  6.46597  1.25"/>
      <geometry>
        <box size="0.656479 0.15 2.5"/>
      </geometry>
      <material
        name="">
        <color
          rgba="0.92 0.92 0.92 1" />
      </material>
    </visual>
  </link>
  <link name="use_case1__Wall_61">
    <inertial>
      <mass value="0"/>
      <origin rpy="0  0  0" xyz="0  0  0"/>
      <inertia ixx="0" ixy="0" ixz="0" iyy="0" iyz="0" izz="0"/>
    </inertial>
    <collision name="use_case1__Wall_61_Collision">
      <origin rpy="0      0      1.5708" xyz="-7.32326  11.56974  1.25"/>
      <geometry>
        <box size="10 0.15 2.5"/>
      </geometry>
    </collision>
    <visual name="use_case1__Wall_61_Visual">
      <origin rpy="0      0      1.5708" xyz="-7.32326  11.56974  1.25"/>
      <geometry>
        <box size="10 0.15 2.5"/>
      </geometry>
      <material
        name="">
        <color
          rgba="0.92 0.92 0.92 1" />
      </material>
    </visual>
  </link>
  <link name="use_case1__Wall_63">
    <inertial>
      <mass value="0"/>
      <origin rpy="0  0  0" xyz="0  0  0"/>
      <inertia ixx="0" ixy="0" ixz="0" iyy="0" iyz="0" izz="0"/>
    </inertial>
    <collision name="use_case1__Wall_63_Collision">
      <origin rpy="0  0  0" xyz="-3.79826  8.49474  1.25"/>
      <geometry>
        <box size="0.5 0.15 2.5"/>
      </geometry>
    </collision>
    <visual name="use_case1__Wall_63_Visual">
      <origin rpy="0  0  0" xyz="-3.79826  8.49474  1.25"/>
      <geometry>
        <box size="0.5 0.15 2.5"/>
      </geometry>
      <material
        name="">
        <color
          rgba="0.92 0.92 0.92 1" />
      </material>
    </visual>
  </link>
  <link name="use_case1__Wall_64">
    <inertial>
      <mass value="0"/>
      <origin rpy="0  0  0" xyz="0  0  0"/>
      <inertia ixx="0" ixy="0" ixz="0" iyy="0" iyz="0" izz="0"/>
    </inertial>
    <collision name="use_case1__Wall_64_Collision">
      <origin rpy="0      0     -1.5708" xyz="-3.62326  8.06973  1.25"/>
      <geometry>
        <box size="1 0.15 2.5"/>
      </geometry>
    </collision>
    <visual name="use_case1__Wall_64_Visual">
      <origin rpy="0      0     -1.5708" xyz="-3.62326  8.06973  1.25"/>
      <geometry>
        <box size="1 0.15 2.5"/>
      </geometry>
      <material
        name="">
        <color
          rgba="0.92 0.92 0.92 1" />
      </material>
    </visual>
  </link>
  <link name="use_case1__Wall_65">
    <inertial>
      <mass value="0"/>
      <origin rpy="0  0  0" xyz="0  0  0"/>
      <inertia ixx="0" ixy="0" ixz="0" iyy="0" iyz="0" izz="0"/>
    </inertial>
    <collision name="use_case1__Wall_65_Collision">
      <origin rpy="0       0       3.14159" xyz="-3.79826  7.64474  1.25"/>
      <geometry>
        <box size="0.5 0.15 2.5"/>
      </geometry>
    </collision>
    <visual name="use_case1__Wall_65_Visual">
      <origin rpy="0       0       3.14159" xyz="-3.79826  7.64474  1.25"/>
      <geometry>
        <box size="0.5 0.15 2.5"/>
      </geometry>
      <material
        name="">
        <color
          rgba="0.92 0.92 0.92 1" />
      </material>
    </visual>
  </link>
  <link name="use_case1__Wall_66">
    <inertial>
      <mass value="0"/>
      <origin rpy="0  0  0" xyz="0  0  0"/>
      <inertia ixx="0" ixy="0" ixz="0" iyy="0" iyz="0" izz="0"/>
    </inertial>
    <collision name="use_case1__Wall_66_Collision">
      <origin rpy="0      0     -1.5708" xyz="-3.97326  6.84474  1.25"/>
      <geometry>
        <box size="1.75 0.15 2.5"/>
      </geometry>
    </collision>
    <visual name="use_case1__Wall_66_Visual">
      <origin rpy="0      0     -1.5708" xyz="-3.97326  6.84474  1.25"/>
      <geometry>
        <box size="1.75 0.15 2.5"/>
      </geometry>
      <material
        name="">
        <color
          rgba="0.92 0.92 0.92 1" />
      </material>
    </visual>
  </link>
  <link name="use_case1__Wall_67">
    <inertial>
      <mass value="0"/>
      <origin rpy="0  0  0" xyz="0  0  0"/>
      <inertia ixx="0" ixy="0" ixz="0" iyy="0" iyz="0" izz="0"/>
    </inertial>
    <collision name="use_case1__Wall_67_Collision">
      <origin rpy="0       0      -1.04719" xyz="-3.88576  5.89318  1.25"/>
      <geometry>
        <box size="0.5 0.15 2.5"/>
      </geometry>
    </collision>
    <visual name="use_case1__Wall_67_Visual">
      <origin rpy="0       0      -1.04719" xyz="-3.88576  5.89318  1.25"/>
      <geometry>
        <box size="0.5 0.15 2.5"/>
      </geometry>
      <material
        name="">
        <color
          rgba="0.92 0.92 0.92 1" />
      </material>
    </visual>
  </link>
  <link name="use_case1__Wall_68">
    <inertial>
      <mass value="0"/>
      <origin rpy="0  0  0" xyz="0  0  0"/>
      <inertia ixx="0" ixy="0" ixz="0" iyy="0" iyz="0" izz="0"/>
    </inertial>
    <collision name="use_case1__Wall_68_Collision">
      <origin rpy="0      0     -1.5708" xyz="-3.79826  5.06663  1.25"/>
      <geometry>
        <box size="1.5 0.15 2.5"/>
      </geometry>
    </collision>
    <visual name="use_case1__Wall_68_Visual">
      <origin rpy="0      0     -1.5708" xyz="-3.79826  5.06663  1.25"/>
      <geometry>
        <box size="1.5 0.15 2.5"/>
      </geometry>
      <material
        name="">
        <color
          rgba="0.92 0.92 0.92 1" />
      </material>
    </visual>
  </link>
  <link name="use_case1__Wall_69">
    <inertial>
      <mass value="0"/>
      <origin rpy="0  0  0" xyz="0  0  0"/>
      <inertia ixx="0" ixy="0" ixz="0" iyy="0" iyz="0" izz="0"/>
    </inertial>
    <collision name="use_case1__Wall_69_Collision">
      <origin rpy="0       0      -2.09439" xyz="-3.88576  4.24007  1.25"/>
      <geometry>
        <box size="0.5 0.15 2.5"/>
      </geometry>
    </collision>
    <visual name="use_case1__Wall_69_Visual">
      <origin rpy="0       0      -2.09439" xyz="-3.88576  4.24007  1.25"/>
      <geometry>
        <box size="0.5 0.15 2.5"/>
      </geometry>
      <material
        name="">
        <color
          rgba="0.92 0.92 0.92 1" />
      </material>
    </visual>
  </link>
  <link name="use_case1__Wall_70">
    <inertial>
      <mass value="0"/>
      <origin rpy="0  0  0" xyz="0  0  0"/>
      <inertia ixx="0" ixy="0" ixz="0" iyy="0" iyz="0" izz="0"/>
    </inertial>
    <collision name="use_case1__Wall_70_Collision">
      <origin rpy="0      0     -1.5708" xyz="-3.97326  3.41352  1.25"/>
      <geometry>
        <box size="1.5 0.15 2.5"/>
      </geometry>
    </collision>
    <visual name="use_case1__Wall_70_Visual">
      <origin rpy="0      0     -1.5708" xyz="-3.97326  3.41352  1.25"/>
      <geometry>
        <box size="1.5 0.15 2.5"/>
      </geometry>
      <material
        name="">
        <color
          rgba="0.92 0.92 0.92 1" />
      </material>
    </visual>
  </link>
  <link name="use_case1__Wall_71">
    <inertial>
      <mass value="0"/>
      <origin rpy="0  0  0" xyz="0  0  0"/>
      <inertia ixx="0" ixy="0" ixz="0" iyy="0" iyz="0" izz="0"/>
    </inertial>
    <collision name="use_case1__Wall_71_Collision">
      <origin rpy="0       0      -1.04719" xyz="-3.82326  2.47871  1.25"/>
      <geometry>
        <box size="0.75 0.15 2.5"/>
      </geometry>
    </collision>
    <visual name="use_case1__Wall_71_Visual">
      <origin rpy="0       0      -1.04719" xyz="-3.82326  2.47871  1.25"/>
      <geometry>
        <box size="0.75 0.15 2.5"/>
      </geometry>
      <material
        name="">
        <color
          rgba="0.92 0.92 0.92 1" />
      </material>
    </visual>
  </link>
  <link name="use_case1__Wall_72">
    <inertial>
      <mass value="0"/>
      <origin rpy="0  0  0" xyz="0  0  0"/>
      <inertia ixx="0" ixy="0" ixz="0" iyy="0" iyz="0" izz="0"/>
    </inertial>
    <collision name="use_case1__Wall_72_Collision">
      <origin rpy="0      0     -1.5708" xyz="-3.67326  1.4189   1.25"/>
      <geometry>
        <box size="1.75 0.15 2.5"/>
      </geometry>
    </collision>
    <visual name="use_case1__Wall_72_Visual">
      <origin rpy="0      0     -1.5708" xyz="-3.67326  1.4189   1.25"/>
      <geometry>
        <box size="1.75 0.15 2.5"/>
      </geometry>
      <material
        name="">
        <color
          rgba="0.92 0.92 0.92 1" />
      </material>
    </visual>
  </link>
  <link name="use_case1__Wall_73">
    <inertial>
      <mass value="0"/>
      <origin rpy="0  0  0" xyz="0  0  0"/>
      <inertia ixx="0" ixy="0" ixz="0" iyy="0" iyz="0" izz="0"/>
    </inertial>
    <collision name="use_case1__Wall_73_Collision">
      <origin rpy="0     0    -2.232" xyz="-3.79118  0.46735  1.25"/>
      <geometry>
        <box size="0.534048 0.15 2.5"/>
      </geometry>
    </collision>
    <visual name="use_case1__Wall_73_Visual">
      <origin rpy="0     0    -2.232" xyz="-3.79118  0.46735  1.25"/>
      <geometry>
        <box size="0.534048 0.15 2.5"/>
      </geometry>
      <material
        name="">
        <color
          rgba="0.92 0.92 0.92 1" />
      </material>
    </visual>
  </link>
  <link name="use_case1__Wall_74">
    <inertial>
      <mass value="0"/>
      <origin rpy="0  0  0" xyz="0  0  0"/>
      <inertia ixx="0" ixy="0" ixz="0" iyy="0" iyz="0" izz="0"/>
    </inertial>
    <collision name="use_case1__Wall_74_Collision">
      <origin rpy="0      0     -1.5708" xyz="-3.89389 -0.60919  1.25"/>
      <geometry>
        <box size="2 0.15 2.5"/>
      </geometry>
    </collision>
    <visual name="use_case1__Wall_74_Visual">
      <origin rpy="0      0     -1.5708" xyz="-3.89389 -0.60919  1.25"/>
      <geometry>
        <box size="2 0.15 2.5"/>
      </geometry>
      <material
        name="">
        <color
          rgba="0.92 0.92 0.92 1" />
      </material>
    </visual>
  </link>
  <link name="use_case1__Wall_75">
    <inertial>
      <mass value="0"/>
      <origin rpy="0  0  0" xyz="0  0  0"/>
      <inertia ixx="0" ixy="0" ixz="0" iyy="0" iyz="0" izz="0"/>
    </inertial>
    <collision name="use_case1__Wall_75_Collision">
      <origin rpy="0  0  0" xyz="-3.70368 -1.5342   1.25"/>
      <geometry>
        <box size="0.560835 0.15 2.5"/>
      </geometry>
    </collision>
    <visual name="use_case1__Wall_75_Visual">
      <origin rpy="0  0  0" xyz="-3.70368 -1.5342   1.25"/>
      <geometry>
        <box size="0.560835 0.15 2.5"/>
      </geometry>
      <material
        name="">
        <color
          rgba="0.92 0.92 0.92 1" />
      </material>
    </visual>
  </link>
  <link name="use_case1__Wall_76">
    <inertial>
      <mass value="0"/>
      <origin rpy="0  0  0" xyz="0  0  0"/>
      <inertia ixx="0" ixy="0" ixz="0" iyy="0" iyz="0" izz="0"/>
    </inertial>
    <collision name="use_case1__Wall_76_Collision">
      <origin rpy="0      0     -1.5708" xyz="-3.49826 -1.9592   1.25"/>
      <geometry>
        <box size="1 0.15 2.5"/>
      </geometry>
    </collision>
    <visual name="use_case1__Wall_76_Visual">
      <origin rpy="0      0     -1.5708" xyz="-3.49826 -1.9592   1.25"/>
      <geometry>
        <box size="1 0.15 2.5"/>
      </geometry>
      <material
        name="">
        <color
          rgba="0.92 0.92 0.92 1" />
      </material>
    </visual>
  </link>
  <link name="use_case1__Wall_77">
    <inertial>
      <mass value="0"/>
      <origin rpy="0  0  0" xyz="0  0  0"/>
      <inertia ixx="0" ixy="0" ixz="0" iyy="0" iyz="0" izz="0"/>
    </inertial>
    <collision name="use_case1__Wall_77_Collision">
      <origin rpy="0       0       3.14159" xyz="-3.69607 -2.3842   1.25"/>
      <geometry>
        <box size="0.545626 0.15 2.5"/>
      </geometry>
    </collision>
    <visual name="use_case1__Wall_77_Visual">
      <origin rpy="0       0       3.14159" xyz="-3.69607 -2.3842   1.25"/>
      <geometry>
        <box size="0.545626 0.15 2.5"/>
      </geometry>
      <material
        name="">
        <color
          rgba="0.92 0.92 0.92 1" />
      </material>
    </visual>
  </link>
  <link name="use_case1__Wall_78">
    <inertial>
      <mass value="0"/>
      <origin rpy="0  0  0" xyz="0  0  0"/>
      <inertia ixx="0" ixy="0" ixz="0" iyy="0" iyz="0" izz="0"/>
    </inertial>
    <collision name="use_case1__Wall_78_Collision">
      <origin rpy="0      0     -1.5708" xyz="-3.87868 -3.4342   1.25"/>
      <geometry>
        <box size="2.25 0.15 2.5"/>
      </geometry>
    </collision>
    <visual name="use_case1__Wall_78_Visual">
      <origin rpy="0      0     -1.5708" xyz="-3.87868 -3.4342   1.25"/>
      <geometry>
        <box size="2.25 0.15 2.5"/>
      </geometry>
      <material
        name="">
        <color
          rgba="0.92 0.92 0.92 1" />
      </material>
    </visual>
  </link>
  <link name="use_case1__Wall_79">
    <inertial>
      <mass value="0"/>
      <origin rpy="0  0  0" xyz="0  0  0"/>
      <inertia ixx="0" ixy="0" ixz="0" iyy="0" iyz="0" izz="0"/>
    </inertial>
    <collision name="use_case1__Wall_79_Collision">
      <origin rpy="0      0      1.5708" xyz="-3.97326  12.56974   1.25"/>
      <geometry>
        <box size="8 0.15 2.5"/>
      </geometry>
    </collision>
    <visual name="use_case1__Wall_79_Visual">
      <origin rpy="0      0      1.5708" xyz="-3.97326  12.56974   1.25"/>
      <geometry>
        <box size="8 0.15 2.5"/>
      </geometry>
      <material
        name="">
        <color
          rgba="0.92 0.92 0.92 1" />
      </material>
    </visual>
  </link>
  <!--
  <link name="use_case1__box_1">
    <inertial>
      <mass value="0"/>
      <origin rpy="0  0  0" xyz="0  0  0"/>
      <inertia ixx="0" ixy="0" ixz="0" iyy="0" iyz="0" izz="0"/>
    </inertial>
    <collision name="use_case1__box_1_Collision">
      <origin rpy="0  0  0" xyz="-4.60107  1.34207  0.5"/>
      <geometry>
        <box size="0.75 0.75 1"/>
      </geometry>
    </collision>
    <visual name="use_case1__box_1_Visual">
      <origin rpy="0  0  0" xyz="-4.60107  1.34207  0.5"/>
      <geometry>
        <box size="0.75 0.75 1"/>
      </geometry>
      <material
        name="">
        <color
          rgba="0.92 0.92 0.92 1" />
      </material>
    </visual>
  </link>
  <link name="use_case1__box_2">
    <inertial>
      <mass value="0"/>
      <origin rpy="0  0  0" xyz="0  0  0"/>
      <inertia ixx="0" ixy="0" ixz="0" iyy="0" iyz="0" izz="0"/>
    </inertial>
    <collision name="use_case1__box_2_Collision">
      <origin rpy="0  0  0" xyz="-4.60107  2.09207  0.5"/>
      <geometry>
        <box size="0.75 0.75 1"/>
      </geometry>
    </collision>
    <visual name="use_case1__box_2_Visual">
      <origin rpy="0  0  0" xyz="-4.60107  2.09207  0.5"/>
      <geometry>
        <box size="0.75 0.75 1"/>
      </geometry>
      <material
        name="">
        <color
          rgba="0.92 0.92 0.92 1" />
      </material>
    </visual>
  </link>
  -->
  <link name ="bed">
	  <inertial>
      <mass value="0"/>
      <origin rpy="0  0  0" xyz="0  0  0"/>
      <inertia ixx="0" ixy="0" ixz="0" iyy="0" iyz="0" izz="0"/>
	  </inertial>
	  <visual>
		  <origin
			xyz="-4.60107  2.09207  0.5"
			rpy="0 0 0" />
		  <geometry>
			<mesh
			  filename="package://robot_mo_spawn/meshes/hospital_bed.stl" scale="0.001 0.001 0.001" />
		  </geometry>
		  <material
			name="">
			<color
			  rgba="0.92 0.92 0.92 1" />
		  </material>
		</visual>
		<collision>
		  <origin
			xyz="-4.60107  2.09207  0.5"
			rpy="0 0 0" />
		  <geometry>
			<mesh
			  filename="package://robot_mo_spawn/meshes/hospital_bed.stl" />
		  </geometry>
		</collision>
  </link>
  <link name="use_case1__Floor_7">
    <inertial>
      <mass value="0"/>
      <origin rpy="0  0  0" xyz="0  0  0"/>
      <inertia ixx="0" ixy="0" ixz="0" iyy="0" iyz="0" izz="0"/>
    </inertial>
    <collision name="use_case1__Floor_7_Collision">
      <origin rpy="0  0  0" xyz="0.82271  6.83475  -0.05"/>
      <geometry>
        <box size="18.3808 31.0307 0.1"/>
      </geometry>
    </collision>
    <visual name="use_case1__Floor_7_Visual">
      <origin rpy="0  0  0" xyz="0.82271  6.83475  -0.05"/>
      <geometry>
        <box size="18.3808 31.0307 0.1"/>
      </geometry>
      <material
        name="">
        <color
          rgba="0.92 0.92 0.92 1" />
      </material>
    </visual>
  </link>
  <!--<link name="use_case1__Floor_8">
    <inertial>
      <mass value="0"/>
      <origin rpy="0  0  0" xyz="0  0  0"/>
      <inertia ixx="0" ixy="0" ixz="0" iyy="0" iyz="0" izz="0"/>
    </inertial>
    <collision name="use_case1__Floor_8_Collision">
      <origin rpy="0  0  0" xyz="0.82271  6.83475  2.5"/>
      <geometry>
        <box size="18.3808 31.0307 0.1"/>
      </geometry>
    </collision>
    <visual name="use_case1__Floor_8_Visual">
      <origin rpy="0  0  0" xyz="0.82271  6.83475  2.5"/>
      <geometry>
        <box size="18.3808 31.0307 0.1"/>
      </geometry>
      <material
        name="">
        <color
          rgba="0.92 0.92 0.92 1" />
      </material>
    </visual>
  </link>-->
  
  <joint name="joint2" type="fixed">
  <parent link="use_case1__Wall_11"/>
  <child link="use_case1__Wall_12"/>
</joint>

<joint name="joint3" type="fixed">
  <parent link="use_case1__Wall_11"/>
  <child link="use_case1__Wall_13"/>
</joint>

<joint name="joint4" type="fixed">
  <parent link="use_case1__Wall_11"/>
  <child link="use_case1__Wall_14"/>
</joint>

<joint name="joint5" type="fixed">
  <parent link="use_case1__Wall_11"/>
  <child link="use_case1__Wall_15"/>
</joint>

<joint name="joint6" type="fixed">
  <parent link="use_case1__Wall_11"/>
  <child link="use_case1__Wall_16"/>
</joint>

<joint name="joint7" type="fixed">
  <parent link="use_case1__Wall_11"/>
  <child link="use_case1__Wall_17"/>
</joint>

<joint name="joint8" type="fixed">
  <parent link="use_case1__Wall_11"/>
  <child link="use_case1__Wall_18"/>
</joint>

<joint name="joint9" type="fixed">
  <parent link="use_case1__Wall_11"/>
  <child link="use_case1__Wall_19"/>
</joint>

<joint name="joint10" type="fixed">
  <parent link="use_case1__Wall_11"/>
  <child link="use_case1__Wall_20"/>
</joint>

<joint name="joint11" type="fixed">
  <parent link="use_case1__Wall_11"/>
  <child link="use_case1__Wall_21"/>
</joint>

<joint name="joint12" type="fixed">
  <parent link="use_case1__Wall_11"/>
  <child link="use_case1__Wall_22"/>
</joint>

<joint name="joint13" type="fixed">
  <parent link="use_case1__Wall_11"/>
  <child link="use_case1__Wall_23"/>
</joint>

<joint name="joint14" type="fixed">
  <parent link="use_case1__Wall_11"/>
  <child link="use_case1__Wall_24"/>
</joint>

<joint name="joint15" type="fixed">
  <parent link="use_case1__Wall_11"/>
  <child link="use_case1__Wall_25"/>
</joint>

<joint name="joint16" type="fixed">
  <parent link="use_case1__Wall_11"/>
  <child link="use_case1__Wall_26"/>
</joint>

<joint name="joint17" type="fixed">
  <parent link="use_case1__Wall_11"/>
  <child link="use_case1__Wall_27"/>
</joint>

<joint name="joint18" type="fixed">
  <parent link="use_case1__Wall_11"/>
  <child link="use_case1__Wall_28"/>
</joint>

<joint name="joint19" type="fixed">
  <parent link="use_case1__Wall_11"/>
  <child link="use_case1__Wall_29"/>
</joint>

<joint name="joint20" type="fixed">
  <parent link="use_case1__Wall_11"/>
  <child link="use_case1__Wall_30"/>
</joint>

<joint name="joint21" type="fixed">
  <parent link="use_case1__Wall_11"/>
  <child link="use_case1__Wall_32"/>
</joint>

<joint name="joint22" type="fixed">
  <parent link="use_case1__Wall_11"/>
  <child link="use_case1__Wall_33"/>
</joint>

<joint name="joint23" type="fixed">
  <parent link="use_case1__Wall_11"/>
  <child link="use_case1__Wall_34"/>
</joint>

<joint name="joint24" type="fixed">
  <parent link="use_case1__Wall_11"/>
  <child link="use_case1__Wall_35"/>
</joint>

<joint name="joint25" type="fixed">
  <parent link="use_case1__Wall_11"/>
  <child link="use_case1__Wall_36"/>
</joint>

<joint name="joint26" type="fixed">
  <parent link="use_case1__Wall_11"/>
  <child link="use_case1__Wall_37"/>
</joint>

<joint name="joint27" type="fixed">
  <parent link="use_case1__Wall_11"/>
  <child link="use_case1__Wall_38"/>
</joint>

<joint name="joint28" type="fixed">
  <parent link="use_case1__Wall_11"/>
  <child link="use_case1__Wall_39"/>
</joint>

<joint name="joint29" type="fixed">
  <parent link="use_case1__Wall_11"/>
  <child link="use_case1__Wall_40"/>
</joint>

<joint name="joint30" type="fixed">
  <parent link="use_case1__Wall_11"/>
  <child link="use_case1__Wall_41"/>
</joint>

<joint name="joint31" type="fixed">
  <parent link="use_case1__Wall_11"/>
  <child link="use_case1__Wall_42"/>
</joint>

<joint name="joint32" type="fixed">
  <parent link="use_case1__Wall_11"/>
  <child link="use_case1__Wall_43"/>
</joint>

<joint name="joint33" type="fixed">
  <parent link="use_case1__Wall_11"/>
  <child link="use_case1__Wall_44"/>
</joint>

<joint name="joint34" type="fixed">
  <parent link="use_case1__Wall_11"/>
  <child link="use_case1__Wall_45"/>
</joint>

<joint name="joint35" type="fixed">
  <parent link="use_case1__Wall_11"/>
  <child link="use_case1__Wall_46"/>
</joint>

<joint name="joint36" type="fixed">
  <parent link="use_case1__Wall_11"/>
  <child link="use_case1__Wall_47"/>
</joint>

<joint name="joint37" type="fixed">
  <parent link="use_case1__Wall_11"/>
  <child link="use_case1__Wall_48"/>
</joint>

<joint name="joint38" type="fixed">
  <parent link="use_case1__Wall_11"/>
  <child link="use_case1__Wall_49"/>
</joint>

<joint name="joint39" type="fixed">
  <parent link="use_case1__Wall_11"/>
  <child link="use_case1__Wall_51"/>
</joint>

<joint name="joint40" type="fixed">
  <parent link="use_case1__Wall_11"/>
  <child link="use_case1__Wall_52"/>
</joint>

<joint name="joint41" type="fixed">
  <parent link="use_case1__Wall_11"/>
  <child link="use_case1__Wall_53"/>
</joint>

<joint name="joint42" type="fixed">
  <parent link="use_case1__Wall_11"/>
  <child link="use_case1__Wall_54"/>
</joint>

<joint name="joint43" type="fixed">
  <parent link="use_case1__Wall_11"/>
  <child link="use_case1__Wall_55"/>
</joint>

<joint name="joint44" type="fixed">
  <parent link="use_case1__Wall_11"/>
  <child link="use_case1__Wall_56"/>
</joint>

<joint name="joint45" type="fixed">
  <parent link="use_case1__Wall_11"/>
  <child link="use_case1__Wall_57"/>
</joint>

<joint name="joint46" type="fixed">
  <parent link="use_case1__Wall_11"/>
  <child link="use_case1__Wall_58"/>
</joint>

<joint name="joint47" type="fixed">
  <parent link="use_case1__Wall_11"/>
  <child link="use_case1__Wall_59"/>
</joint>

<joint name="joint48" type="fixed">
  <parent link="use_case1__Wall_11"/>
  <child link="use_case1__Wall_60"/>
</joint>

<joint name="joint49" type="fixed">
  <parent link="use_case1__Wall_11"/>
  <child link="use_case1__Wall_61"/>
</joint>

<joint name="joint50" type="fixed">
  <parent link="use_case1__Wall_11"/>
  <child link="use_case1__Wall_63"/>
</joint>

<joint name="joint51" type="fixed">
  <parent link="use_case1__Wall_11"/>
  <child link="use_case1__Wall_64"/>
</joint>

<joint name="joint52" type="fixed">
  <parent link="use_case1__Wall_11"/>
  <child link="use_case1__Wall_65"/>
</joint>

<joint name="joint53" type="fixed">
  <parent link="use_case1__Wall_11"/>
  <child link="use_case1__Wall_66"/>
</joint>

<joint name="joint54" type="fixed">
  <parent link="use_case1__Wall_11"/>
  <child link="use_case1__Wall_67"/>
</joint>

<joint name="joint55" type="fixed">
  <parent link="use_case1__Wall_11"/>
  <child link="use_case1__Wall_68"/>
</joint>

<joint name="joint56" type="fixed">
  <parent link="use_case1__Wall_11"/>
  <child link="use_case1__Wall_69"/>
</joint>

<joint name="joint57" type="fixed">
  <parent link="use_case1__Wall_11"/>
  <child link="use_case1__Wall_70"/>
</joint>

<joint name="joint58" type="fixed">
  <parent link="use_case1__Wall_11"/>
  <child link="use_case1__Wall_71"/>
</joint>

<joint name="joint59" type="fixed">
  <parent link="use_case1__Wall_11"/>
  <child link="use_case1__Wall_72"/>
</joint>

<joint name="joint60" type="fixed">
  <parent link="use_case1__Wall_11"/>
  <child link="use_case1__Wall_73"/>
</joint>

<joint name="joint61" type="fixed">
  <parent link="use_case1__Wall_11"/>
  <child link="use_case1__Wall_74"/>
</joint>

<joint name="joint62" type="fixed">
  <parent link="use_case1__Wall_11"/>
  <child link="use_case1__Wall_75"/>
</joint>

<joint name="joint63" type="fixed">
  <parent link="use_case1__Wall_11"/>
  <child link="use_case1__Wall_76"/>
</joint>

<joint name="joint64" type="fixed">
  <parent link="use_case1__Wall_11"/>
  <child link="use_case1__Wall_77"/>
</joint>

<joint name="joint65" type="fixed">
  <parent link="use_case1__Wall_11"/>
  <child link="use_case1__Wall_78"/>
</joint>

<joint name="joint68" type="fixed">
  <parent link="use_case1__Wall_11"/>
  <child link="use_case1__Wall_79"/>
</joint>

<joint name="joint71" type="fixed">
  <parent link="use_case1__Wall_11"/>
  <child link="bed"/>
</joint>
<!--
<joint name="joint66" type="fixed">
  <parent link="use_case1__Wall_11"/>
  <child link="use_case1__box_1"/>
</joint>

<joint name="joint67" type="fixed">
  <parent link="use_case1__Wall_11"/>
  <child link="use_case1__box_2"/>
</joint>
-->

<joint name="joint69" type="fixed">
  <parent link="use_case1__Wall_11"/>
  <child link="use_case1__Floor_7"/>
</joint>

<!--<joint name="joint70" type="fixed">
  <parent link="use_case1__Wall_11"/>
  <child link="use_case1__Floor_8"/>
</joint>-->

</robot>
